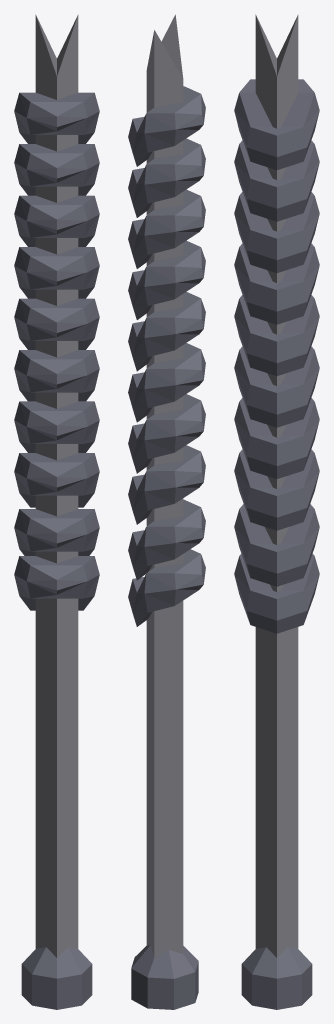
The model's file is hammer_hammer_24.glb.
The picture shows the model from 3 angles, left to right: view 1: azimuth 90°, elevation 25°; view 2: azimuth 150°, elevation 25°; view 3: azimuth 270°, elevation 25°; orthographic projection.
Visible parts, largest first — view 1: hammer_24; view 2: hammer_24; view 3: hammer_24.
Boxes of the visible parts, x1,y1,x2,y2 form: hammer_24: (14,14,99,1009); hammer_24: (128,14,205,1009); hammer_24: (234,14,319,1009).
Size of the model in its own units: 6.58 by 80.79 by 6.39.
1 material, 1 textured.
